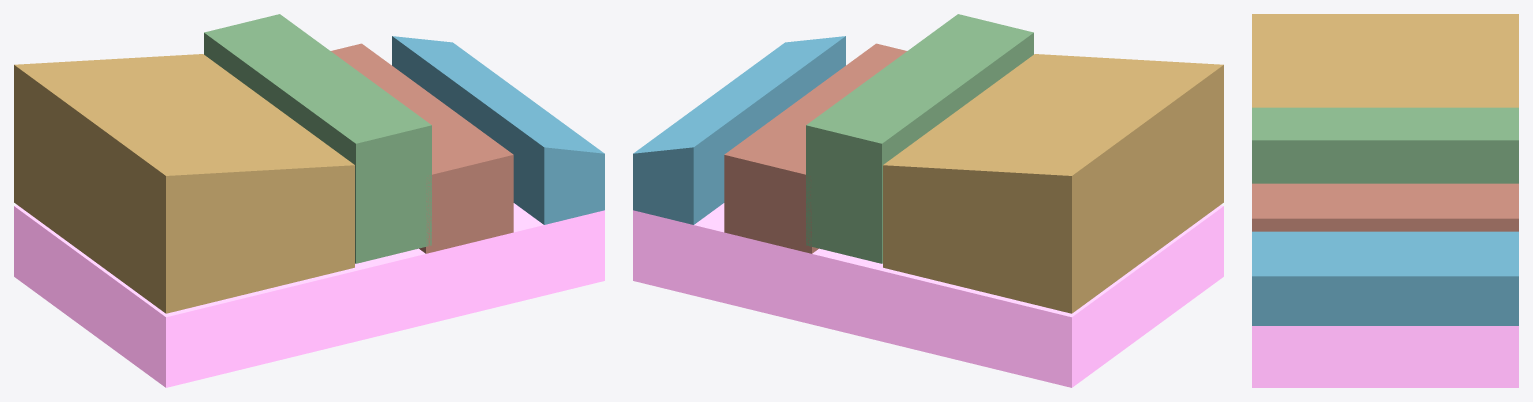
File: tenaga-endogen.glb
3 renders of one model, left to right at view 1: azimuth 30°, elevation 25°; view 2: azimuth 150°, elevation 25°; view 3: azimuth 270°, elevation 25°, orthographic. The views are drawn at different scales.
Visible parts, largest first — view 1: Fold_Antiklin_Sinklin_Migas, Basement_Metamorf_Marmer_Sabak, Horst_Block_Karst_Sewu, Delta_Bengawan_Solo_Subsidence, Graben_Ngarai_Sianok; view 2: Fold_Antiklin_Sinklin_Migas, Basement_Metamorf_Marmer_Sabak, Horst_Block_Karst_Sewu, Delta_Bengawan_Solo_Subsidence, Graben_Ngarai_Sianok; view 3: Delta_Bengawan_Solo_Subsidence, Fold_Antiklin_Sinklin_Migas, Horst_Block_Karst_Sewu, Basement_Metamorf_Marmer_Sabak, Graben_Ngarai_Sianok.
Boxes of the visible parts, x1,y1,x2,y2 form: Fold_Antiklin_Sinklin_Migas: (14, 54, 354, 313); Basement_Metamorf_Marmer_Sabak: (14, 203, 604, 387); Horst_Block_Karst_Sewu: (204, 14, 431, 263); Delta_Bengawan_Solo_Subsidence: (392, 36, 604, 224); Graben_Ngarai_Sianok: (331, 43, 513, 253); Fold_Antiklin_Sinklin_Migas: (883, 54, 1223, 313); Basement_Metamorf_Marmer_Sabak: (633, 203, 1223, 387); Horst_Block_Karst_Sewu: (806, 14, 1033, 263); Delta_Bengawan_Solo_Subsidence: (633, 36, 845, 224); Graben_Ngarai_Sianok: (724, 43, 906, 253); Delta_Bengawan_Solo_Subsidence: (1252, 231, 1518, 325); Fold_Antiklin_Sinklin_Migas: (1252, 14, 1518, 107); Horst_Block_Karst_Sewu: (1252, 107, 1518, 183); Basement_Metamorf_Marmer_Sabak: (1252, 326, 1518, 387); Graben_Ngarai_Sianok: (1252, 183, 1518, 231).
Size of the model in its own units: 2.6 by 1.2 by 1.56.
